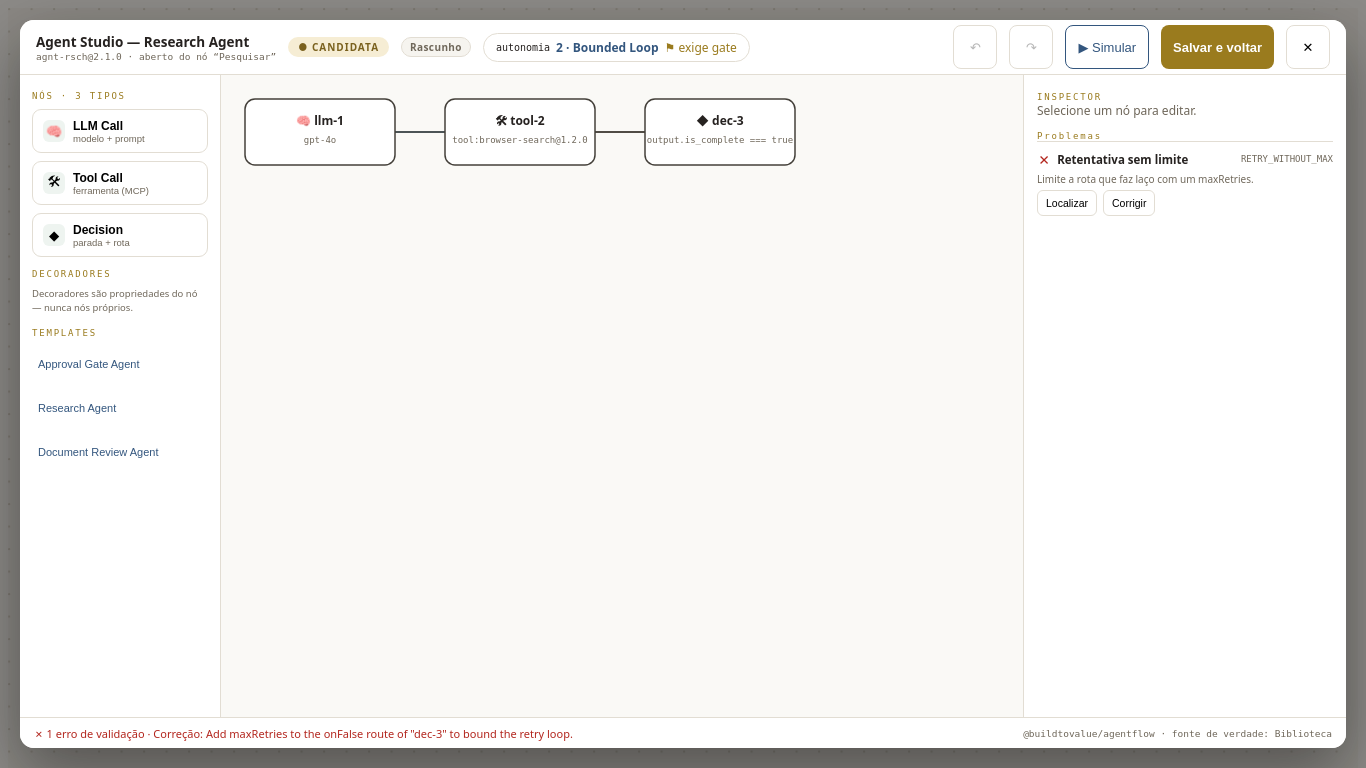
Test case: AgentStudio Problems Panel (Squad Lane SL-6) › a safe quick-fix applies as ONE undoable command and clears the error
Click the button "Corrigir". click: (1129, 203)
box: left=1103, top=190, right=1155, bottom=216
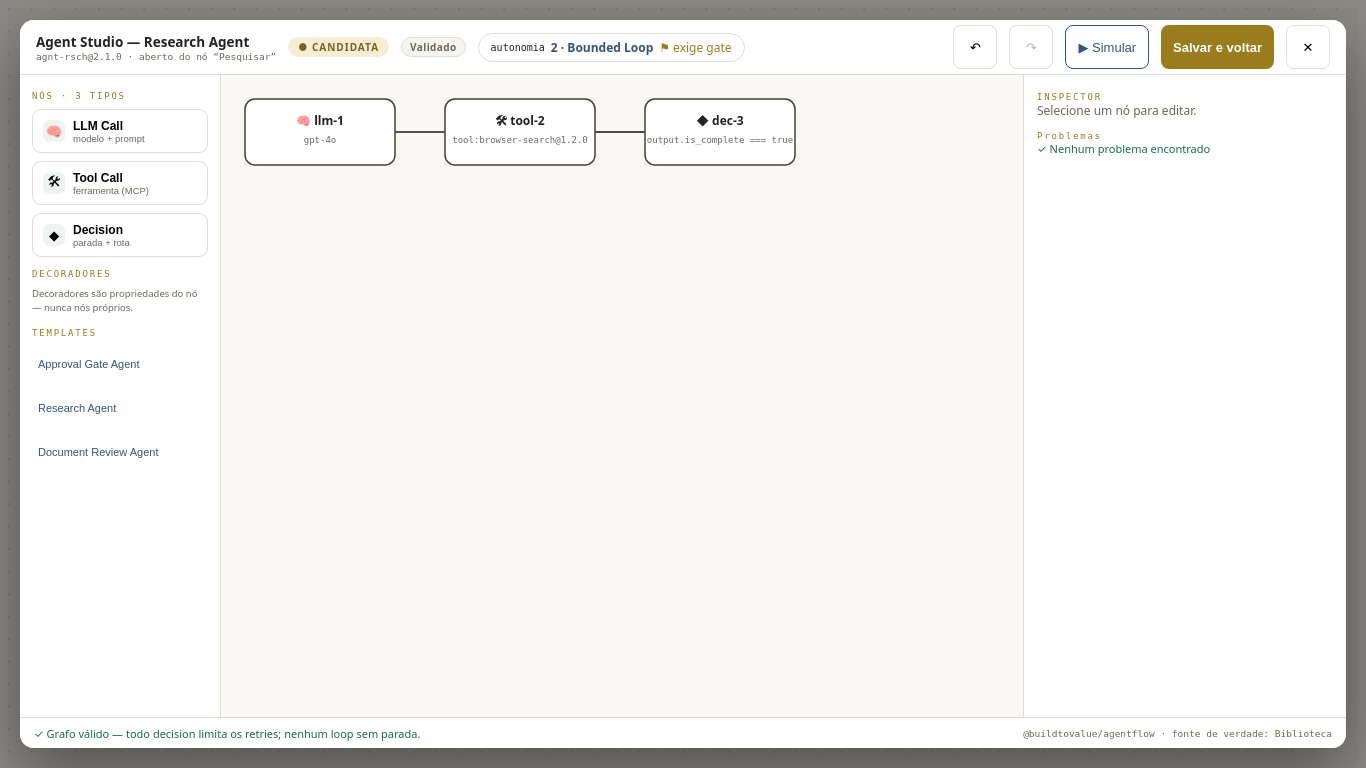
// undoable through the modal's isolated stack
Click the button named "Desfazer". click: (975, 47)
box: left=953, top=25, right=997, bottom=69
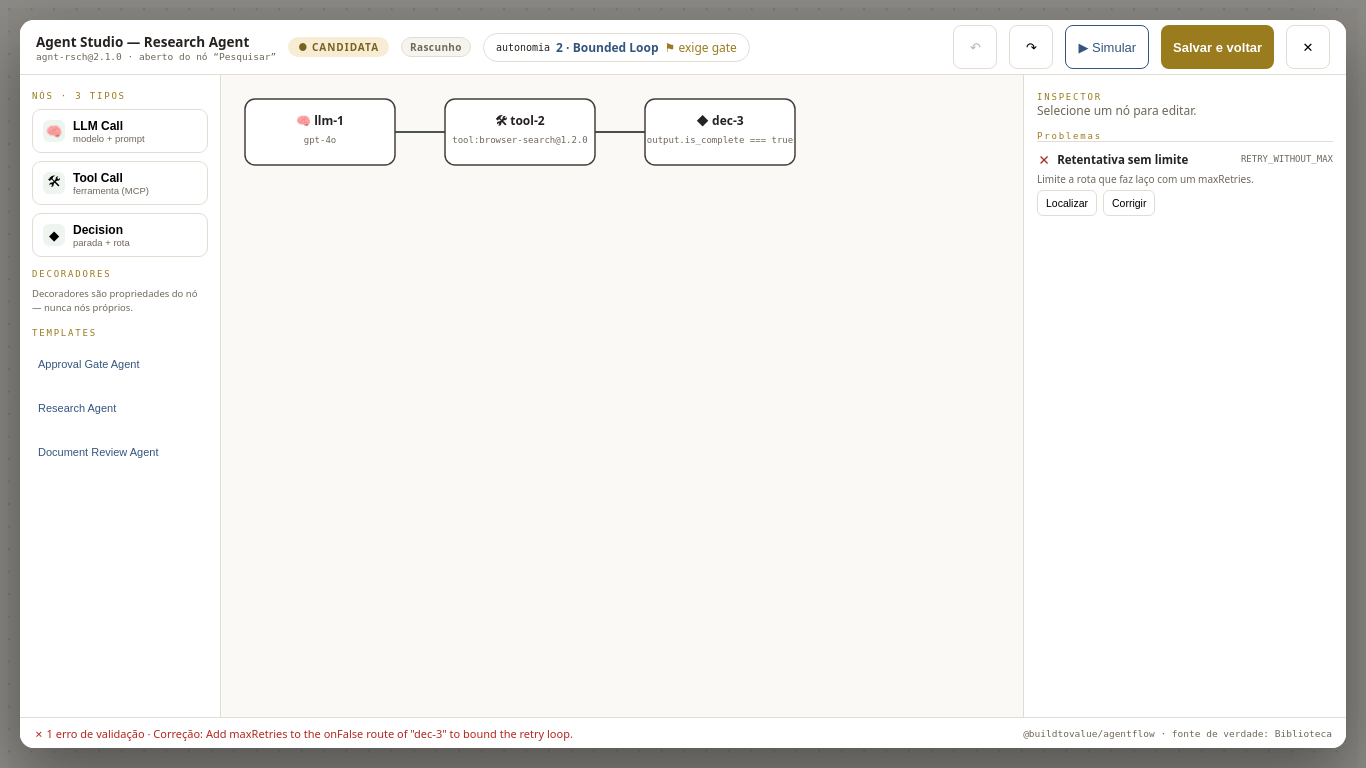
Expected: the element that starts with "Retentativa sem limite" is shown, left=1037, top=141, right=1333, bottom=222
